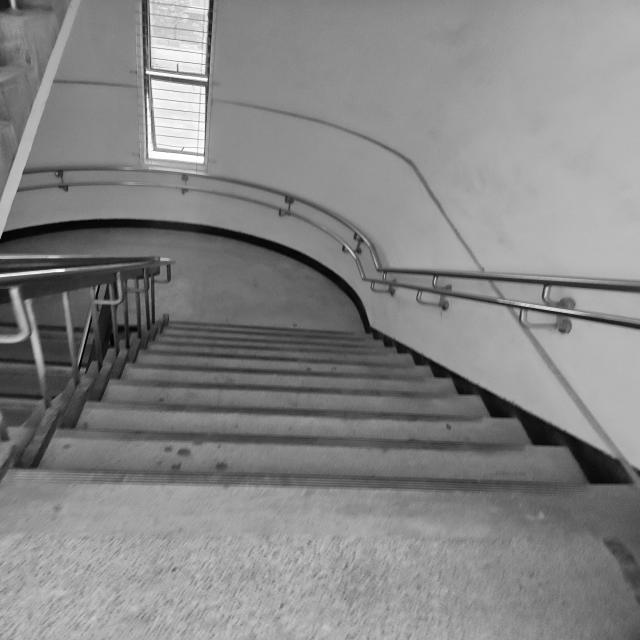Road-Object: (0, 469, 640, 640), (0, 228, 363, 339)
floor: (1, 322, 635, 539)
